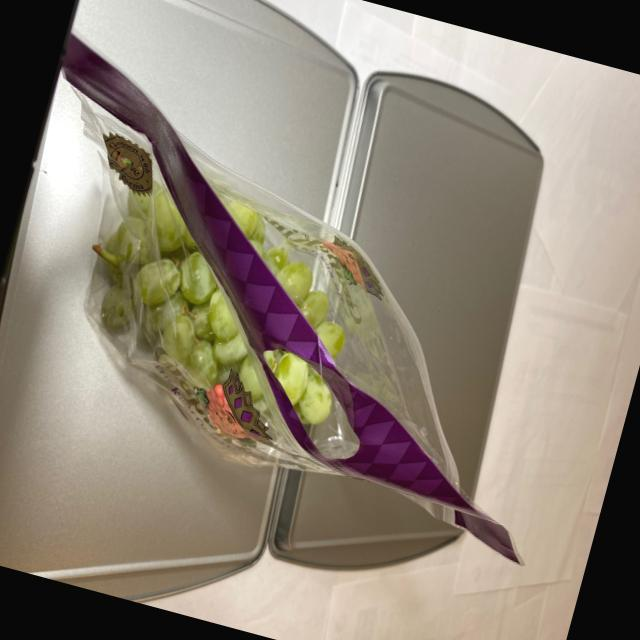grapes: (64, 162, 400, 452)
